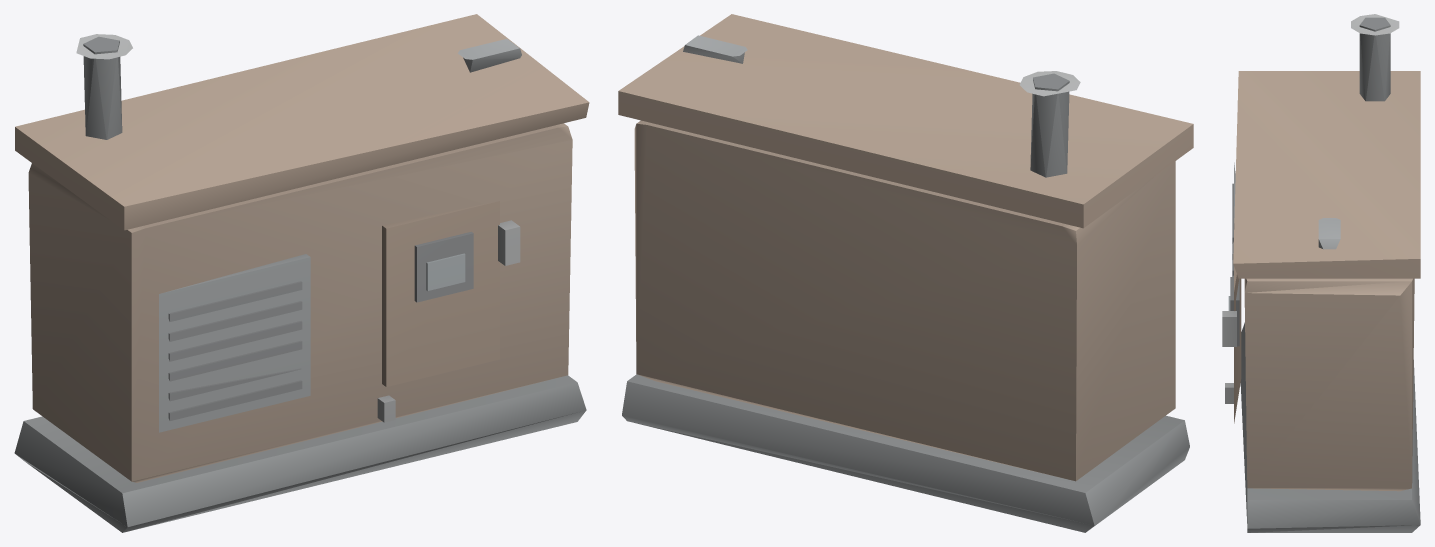
Rendered from genset.lod1.glb.
3 renders of one model, left to right at view 1: azimuth 30°, elevation 25°; view 2: azimuth 150°, elevation 25°; view 3: azimuth 270°, elevation 25°, orthographic. The views are drawn at different scales.
Bounding box in the file's own units: 2.5 × 2.11 × 1.09.
